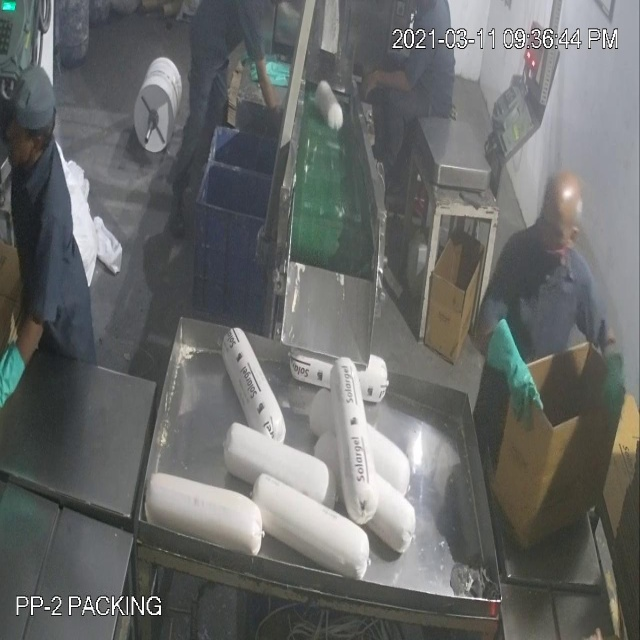Guantes: (486, 311, 544, 444), (599, 351, 634, 432)
Sin_guantes: (252, 45, 301, 154), (355, 54, 418, 109)
